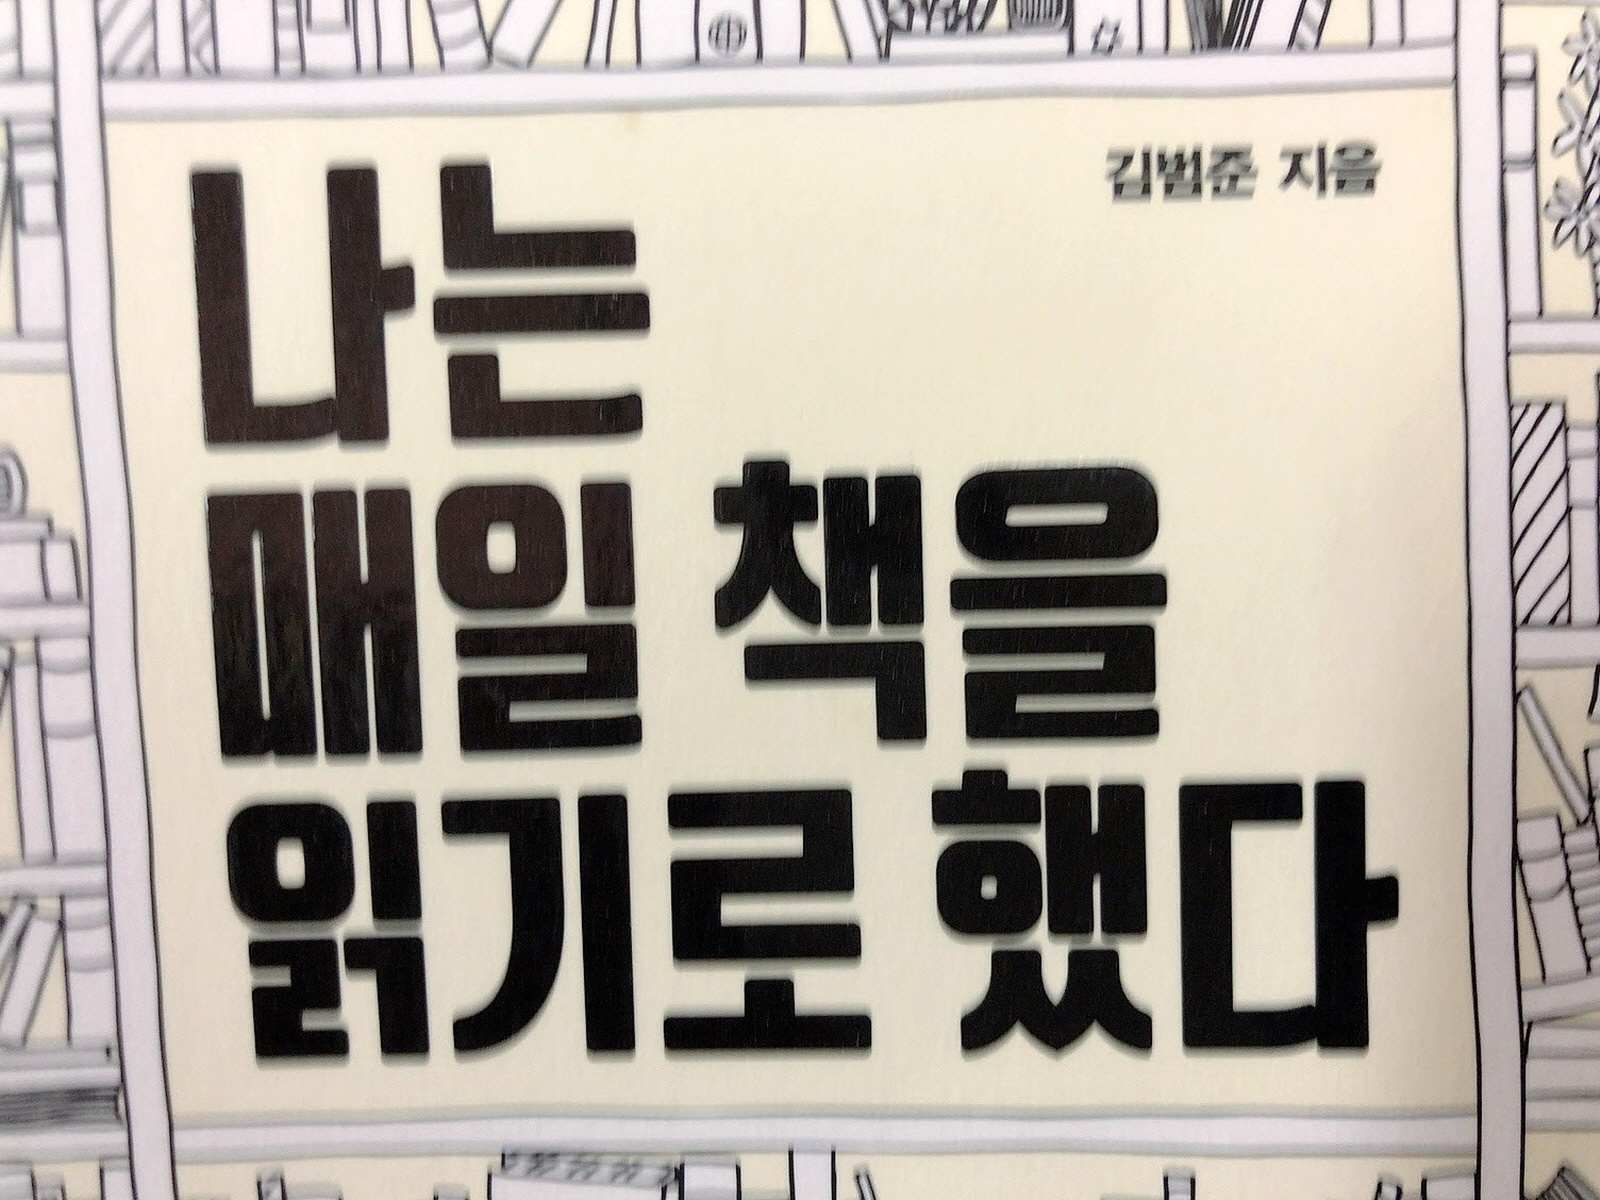text: (175, 765, 1450, 1094), (160, 454, 1232, 766), (145, 144, 716, 460), (1095, 130, 1403, 228)
